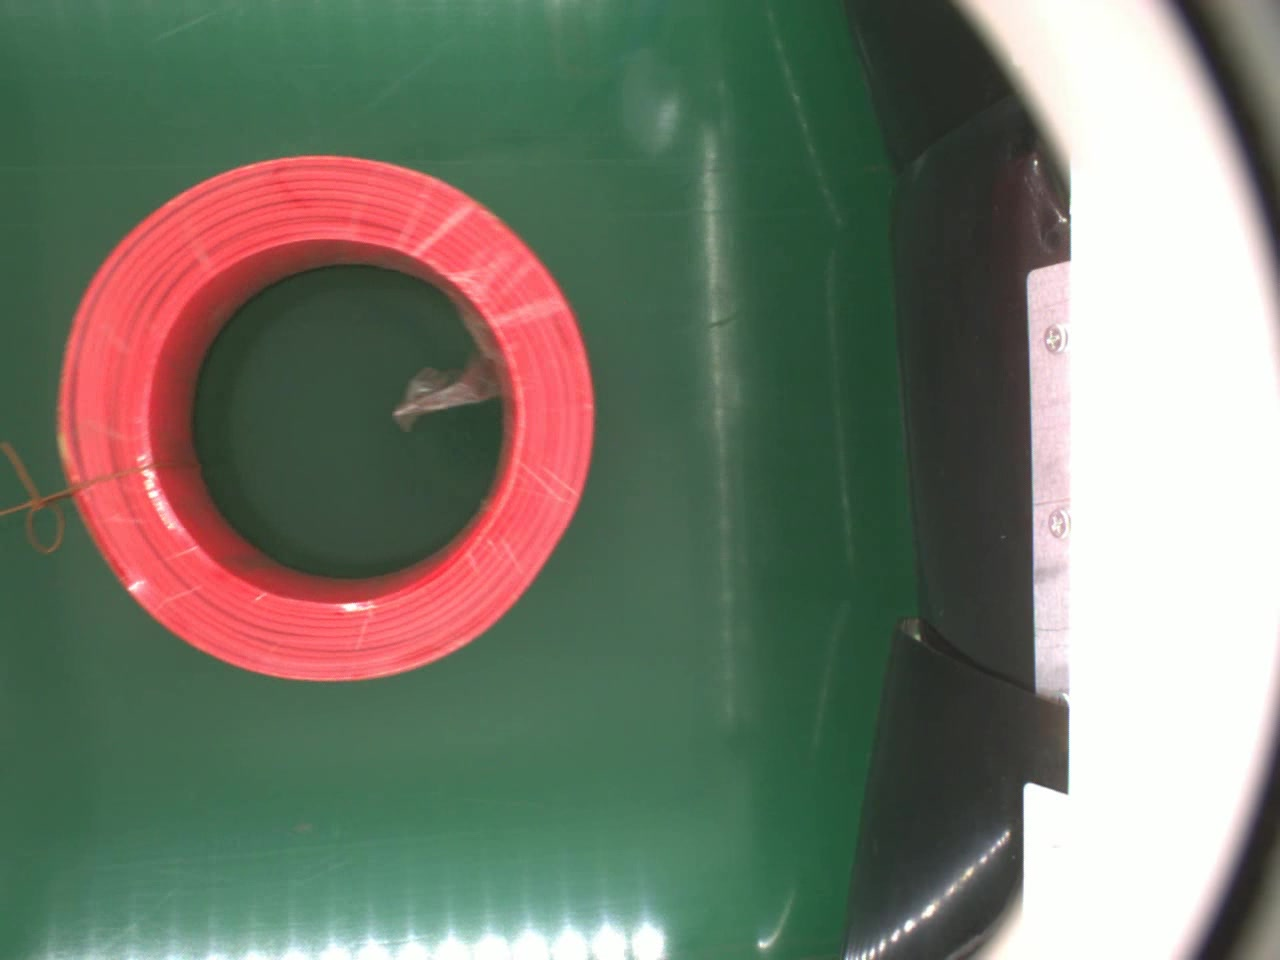red: (56, 142, 597, 680)
